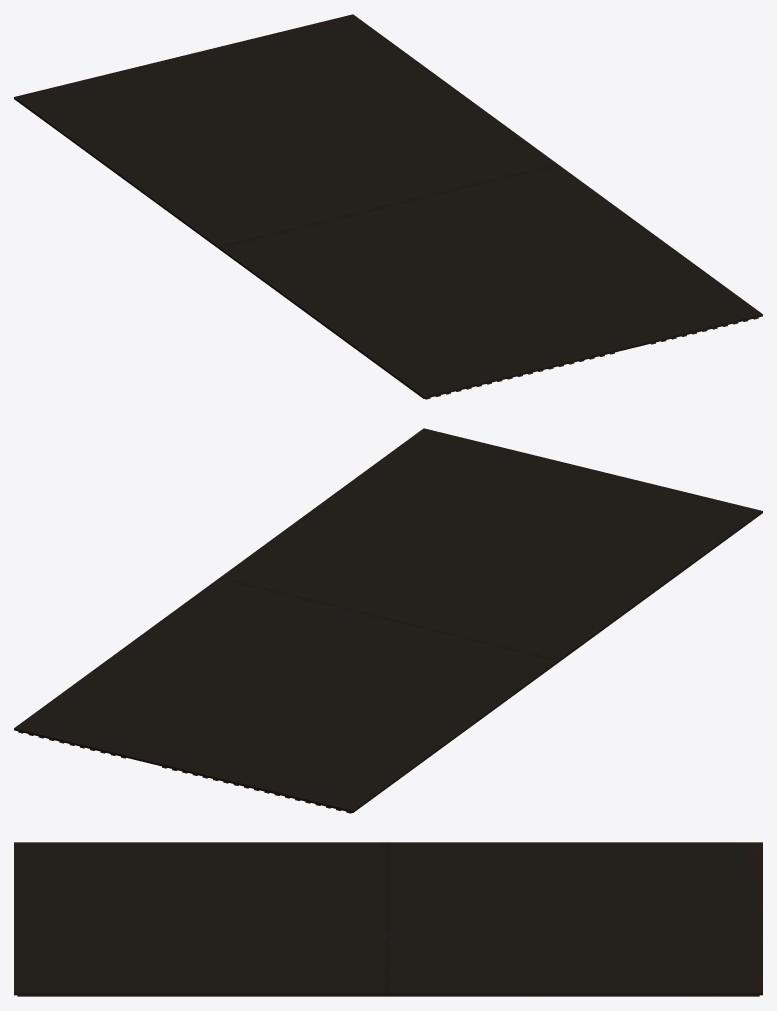
File: arrival_soffit.glb
3 views of the same model, one above another, from view 1: azimuth 30°, elevation 25°; view 2: azimuth 150°, elevation 25°; view 3: azimuth 270°, elevation 25° (orthographic). The views are drawn at different scales.
Parts seen in each view (by area): view 1: arrival_soffit; view 2: arrival_soffit; view 3: arrival_soffit.
Part boxes in pixels (x1=…): arrival_soffit: x1=14, y1=14, x2=762, y2=399; arrival_soffit: x1=14, y1=428, x2=762, y2=813; arrival_soffit: x1=14, y1=842, x2=762, y2=996.
Bounding box in the file's own units: 4.3 × 0.0604 × 9.
Materials: 1 (1 with a texture image).
